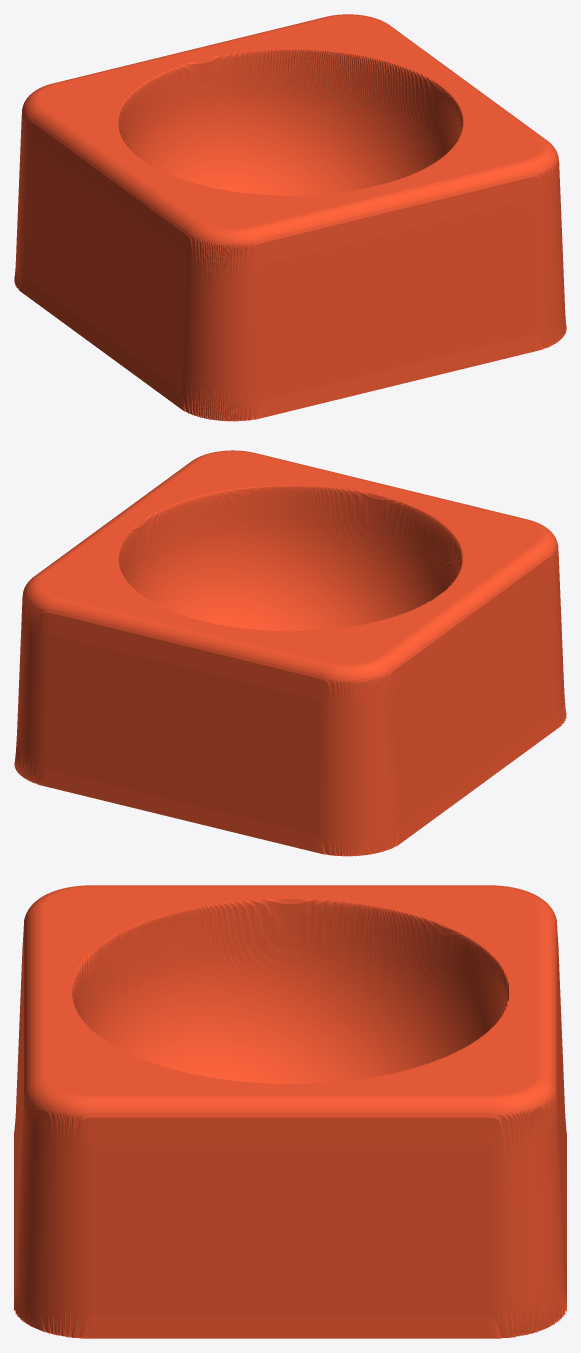
Rendered from mold.glb.
3 views of the same model, one above another, from view 1: azimuth 30°, elevation 25°; view 2: azimuth 150°, elevation 25°; view 3: azimuth 270°, elevation 25° (orthographic). The views are drawn at different scales.
Visible parts, largest first — view 1: geometry_0; view 2: geometry_0; view 3: geometry_0.
Part boxes in pixels (left/top/right/bottom): geometry_0: left=14, top=14, right=566, bottom=421; geometry_0: left=14, top=450, right=566, bottom=856; geometry_0: left=14, top=885, right=566, bottom=1338.
Bounding box in the file's own units: 0.065 × 0.0299 × 0.065.
